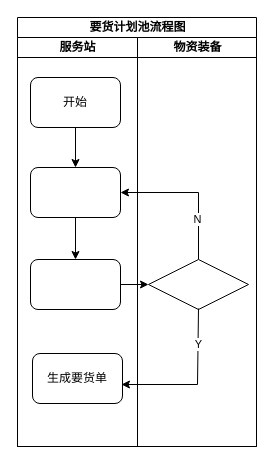
Some shapes in this 274 by 464 pixel diagram are drawn without their labels. Here are the shapes that lost their labels. From the top down, the centre of each, then its label:
At point (75, 192): "创建要货计划".
At point (75, 284): "提交审批".
At point (198, 284): "审核".
